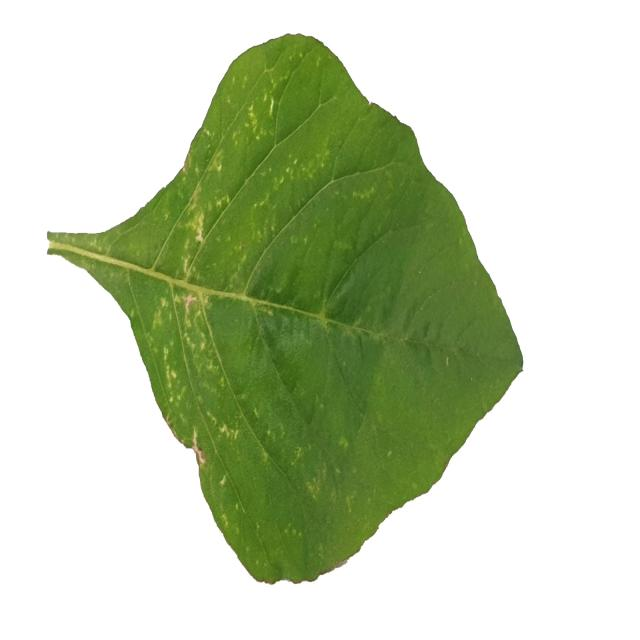Medicinal-Arive Dantu: (46, 24, 522, 580)
